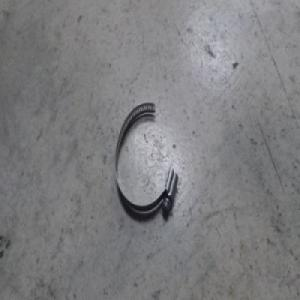AdjustableClamp: (114, 97, 179, 220)
